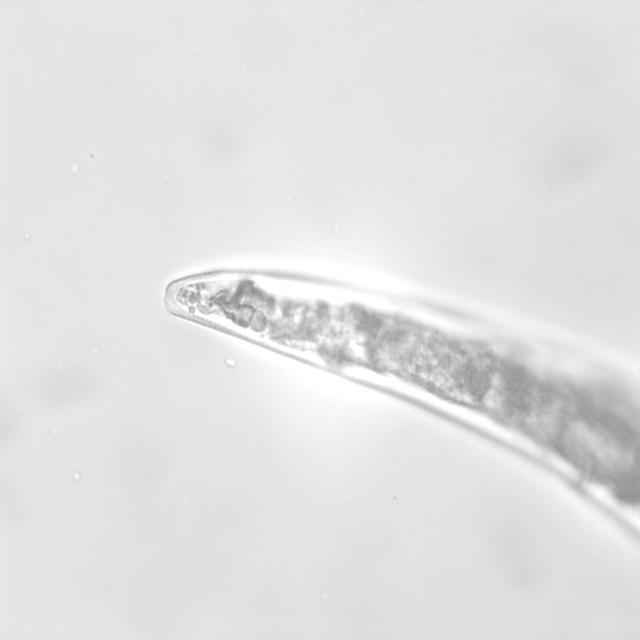Pratylenchus: (153, 243, 406, 412)
